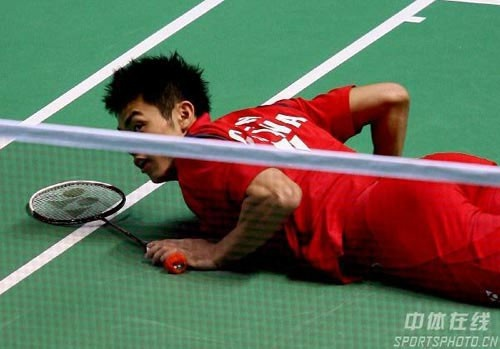falling: (74, 22, 489, 329)
